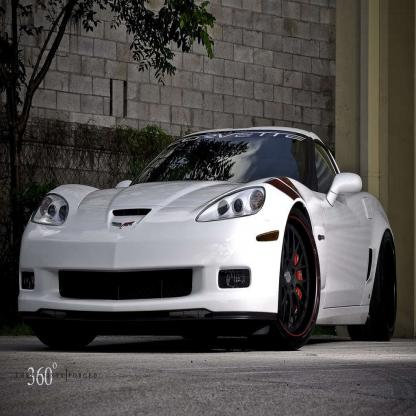car: (18, 129, 400, 362)
